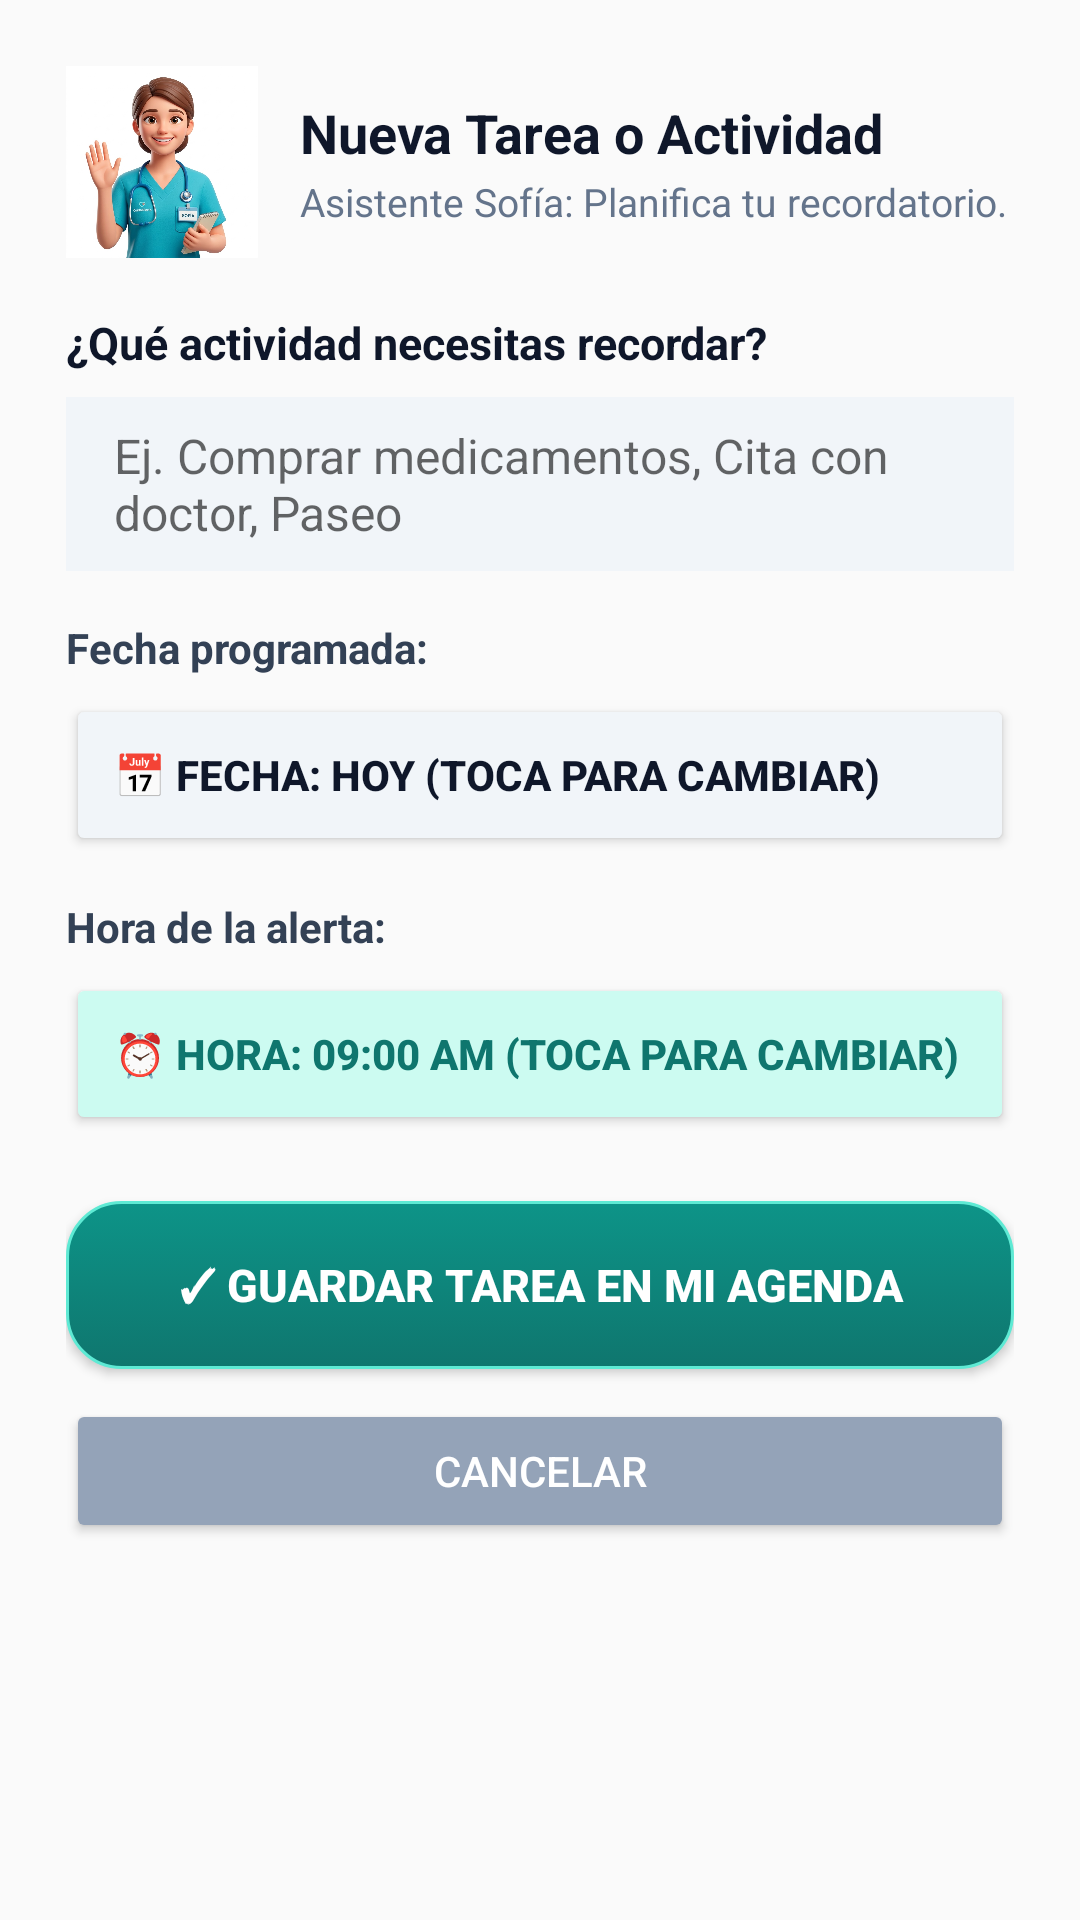

Locate icon controls on the screen. Image size 1080 × 1920, boxes as (x1, y1, x2, y2).
nurse: (85, 77, 226, 258)
